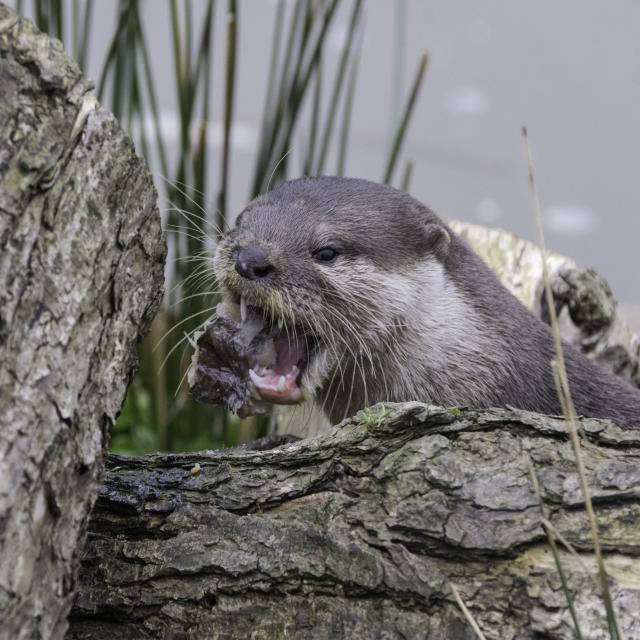otter: (218, 178, 502, 405)
